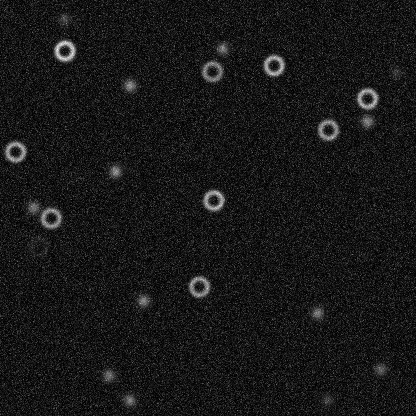Ring: (26, 234, 50, 258), (52, 38, 76, 62), (355, 86, 379, 110), (38, 205, 62, 229), (3, 139, 27, 163), (316, 117, 340, 141), (186, 274, 210, 298), (200, 59, 224, 83), (201, 188, 225, 212), (261, 53, 285, 77)
Spot: (25, 199, 41, 215), (107, 163, 123, 179), (319, 391, 335, 407), (309, 304, 325, 320), (100, 367, 116, 383), (121, 77, 137, 93), (372, 361, 388, 377), (121, 391, 137, 407), (56, 11, 72, 27), (387, 64, 403, 80), (214, 40, 230, 56), (135, 292, 151, 308), (359, 113, 375, 129)
